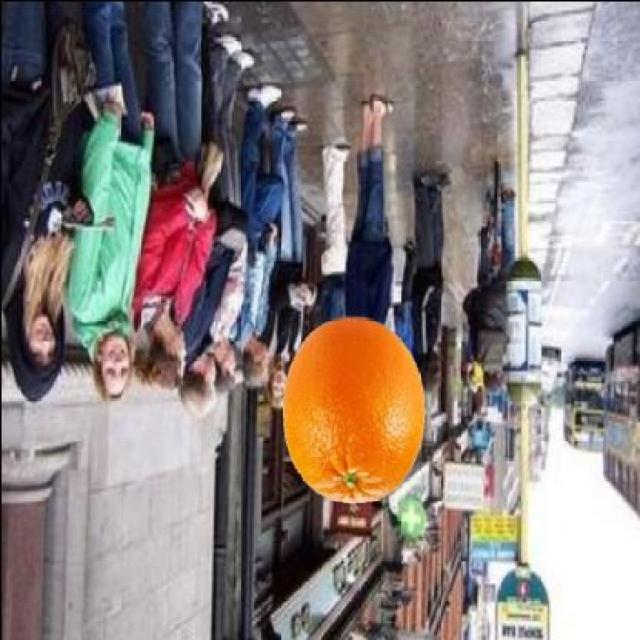Orange: (280, 314, 426, 504)
